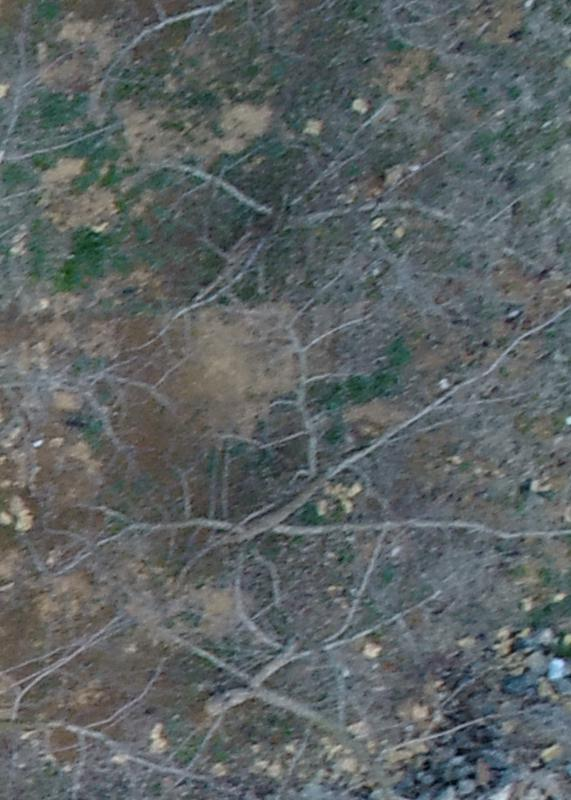apple: (117, 352, 561, 651), (73, 99, 549, 340), (110, 610, 466, 790)
